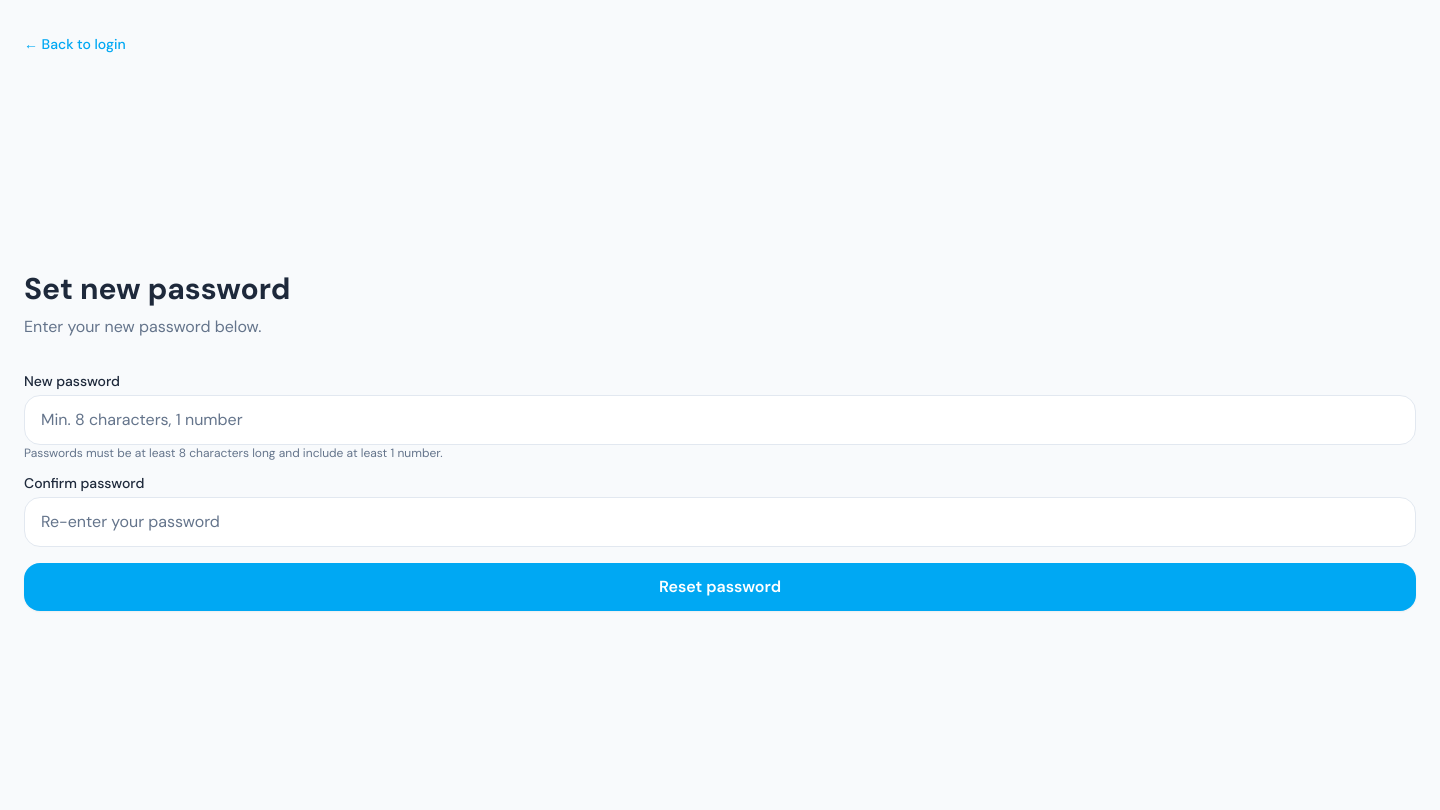
ResetPasswordPage › shows error when password is too short
The image size is (1440, 810).
In the password field with test id "password-input": (720, 420) [24,395,1416,445], type "short1"
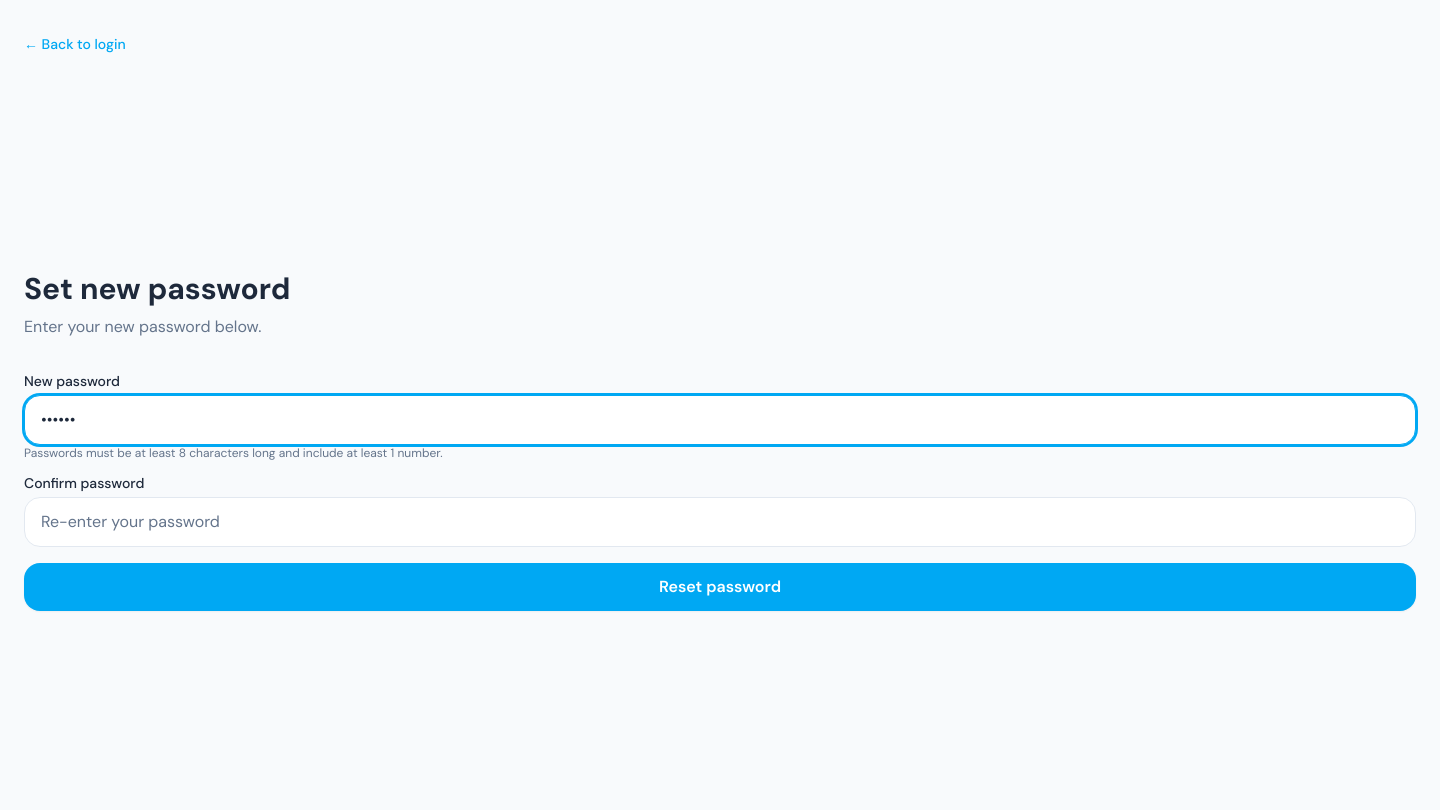
In the password field with test id "confirm-password-input": (720, 522) [24,497,1416,547], type "short1"
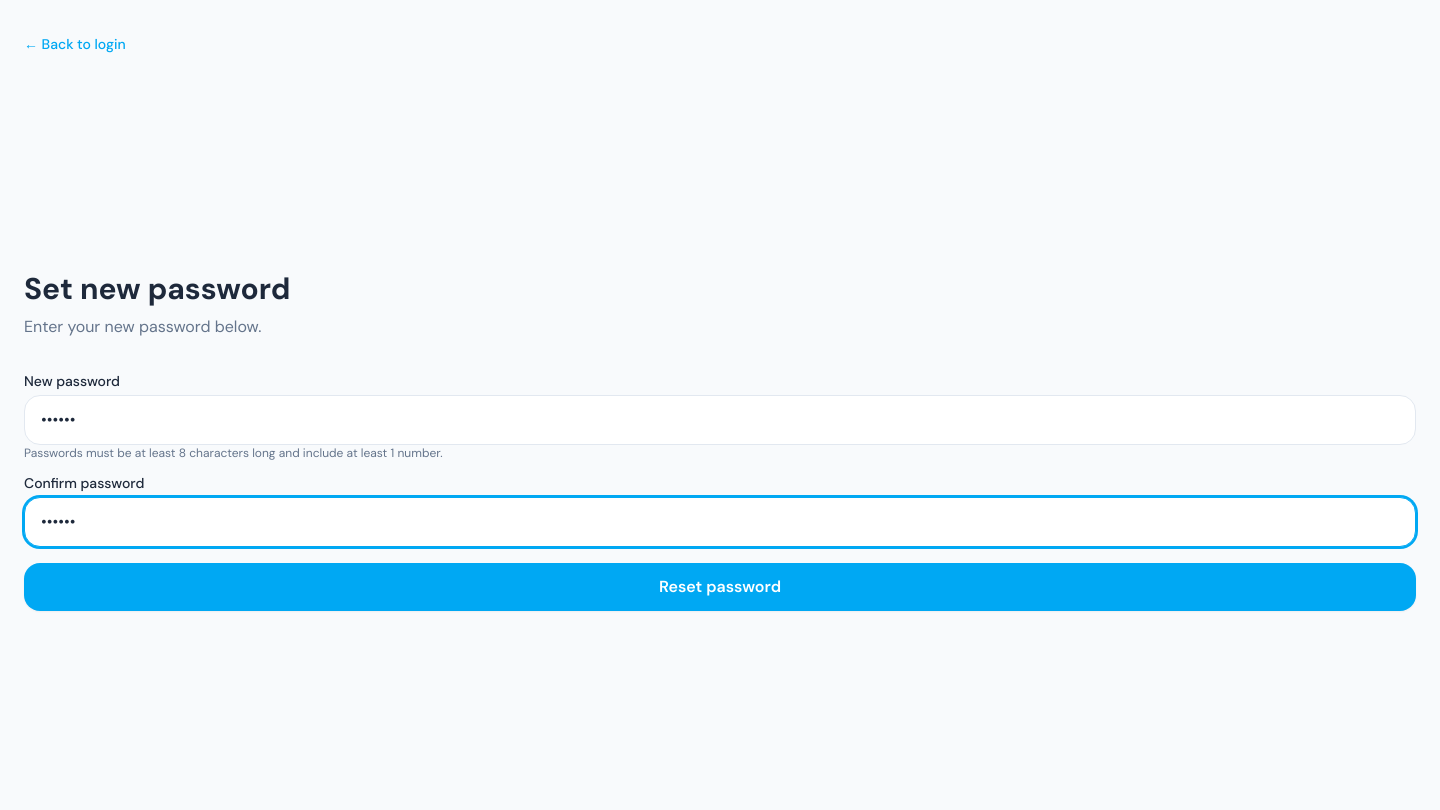
Click the button with test id "submit-button": (720, 587) [24,563,1416,611]
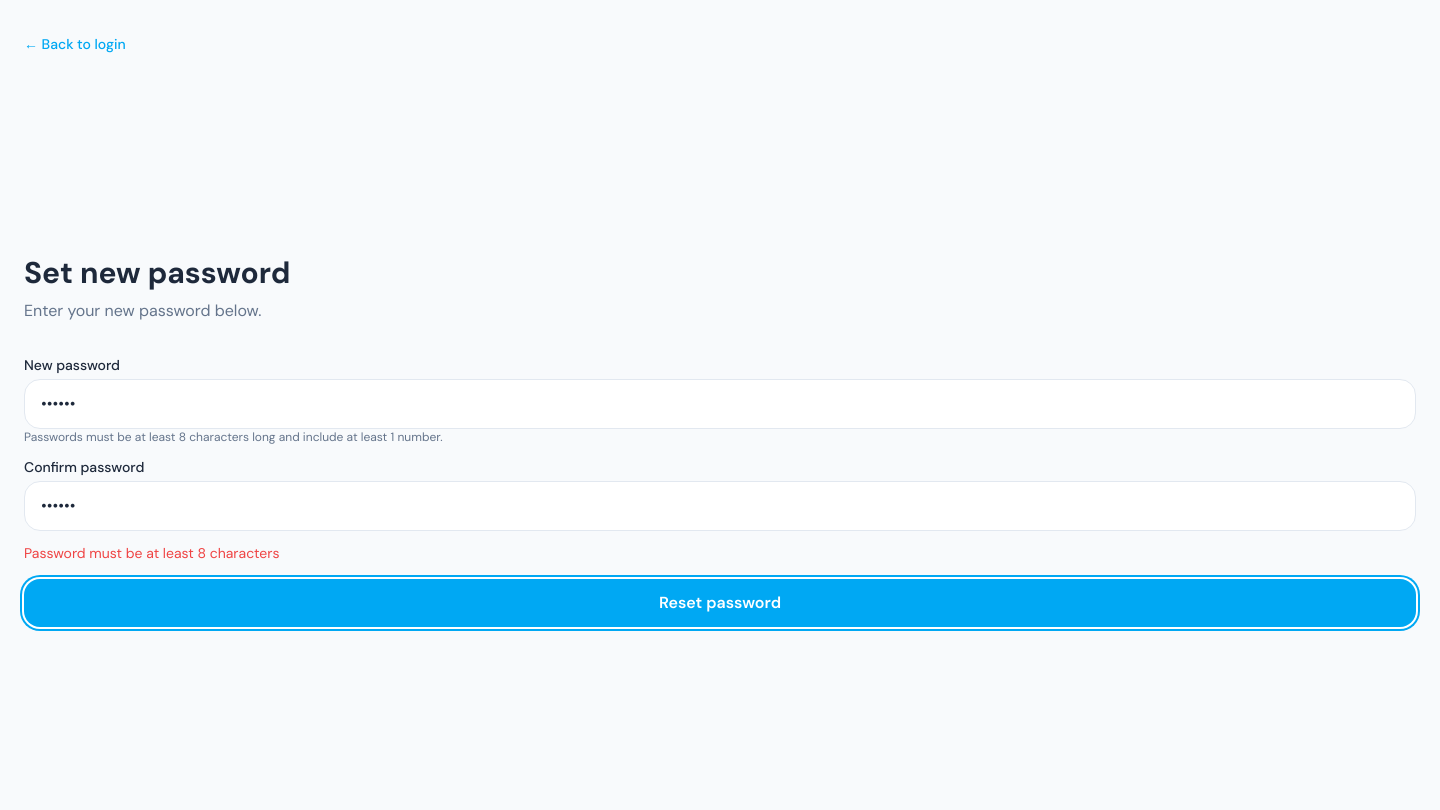
Expected: the message with test id "field-error" shows "at least 8 characters", [24,544,279,562]
